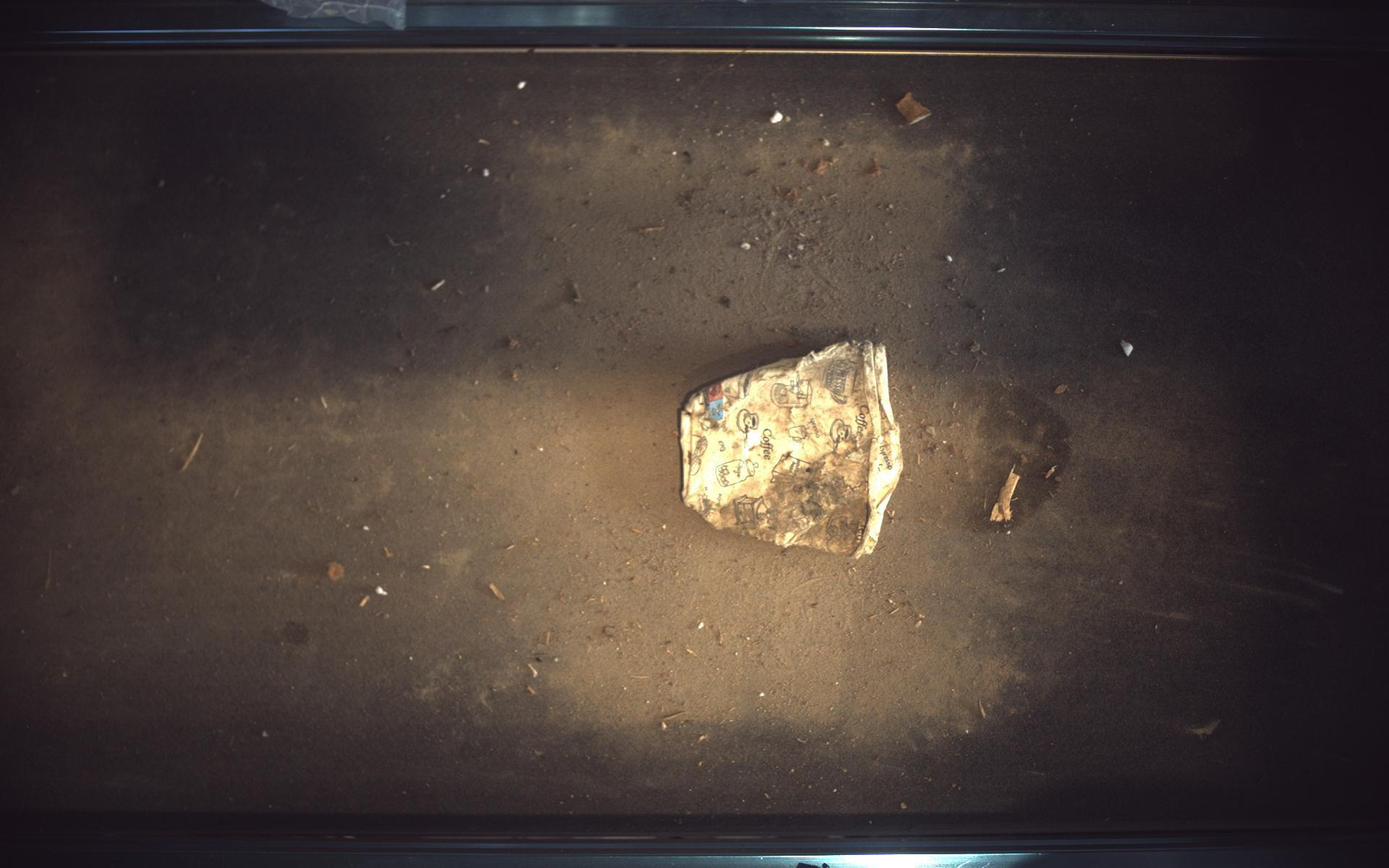general_w: (681, 340, 905, 558)
